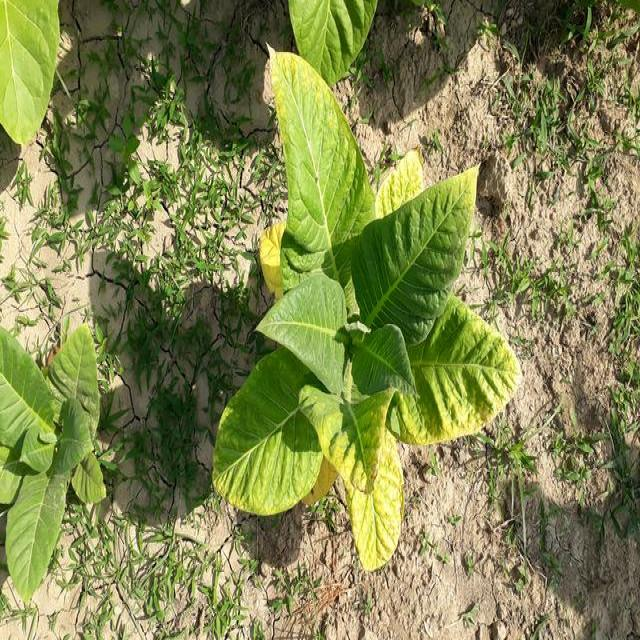crop: (208, 37, 526, 571), (0, 319, 107, 581), (286, 0, 391, 85), (0, 0, 58, 149)
